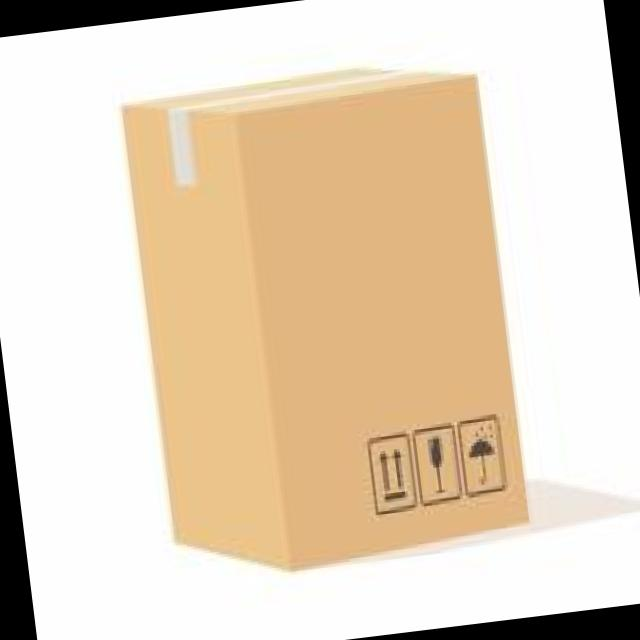box: (119, 67, 533, 574)
